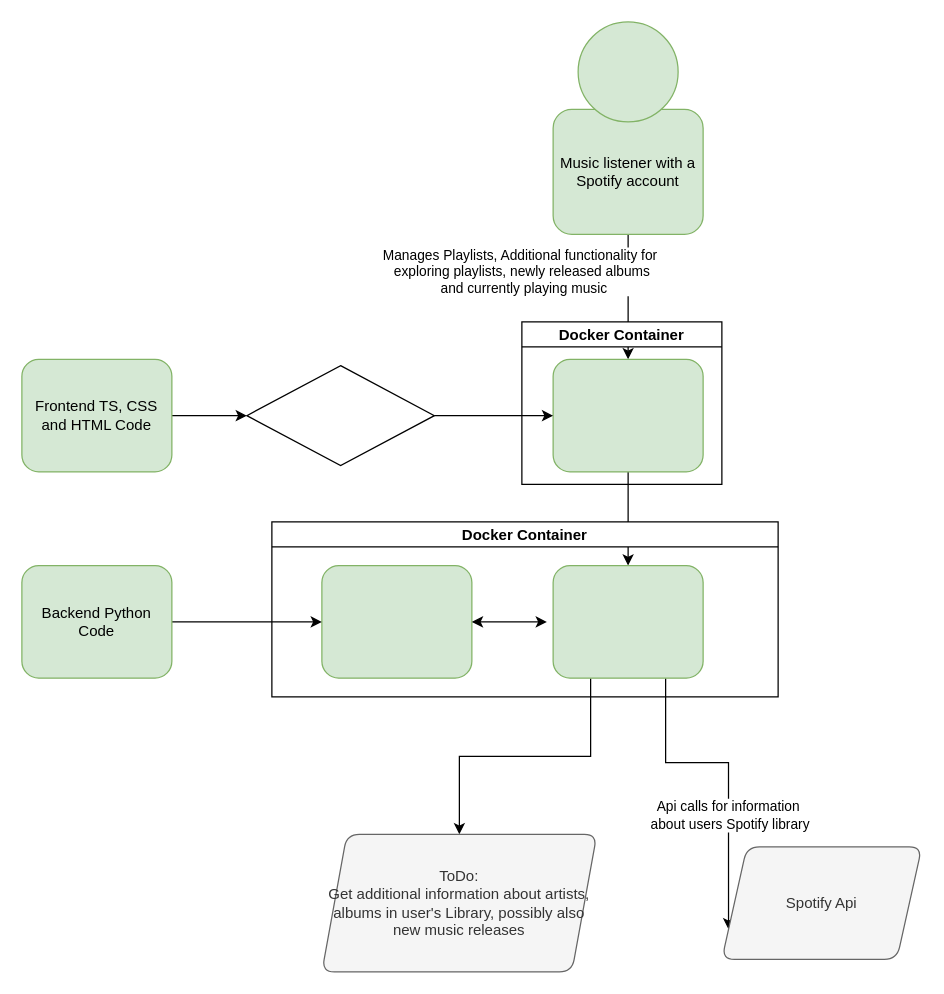
The diagram is 944 pixels wide and 994 high, and some of its shapes have lost their labels. Each missing label, with the centre of its shape:
"esbuild bundler" belongs at point 340,415.
"gunicorn server" belongs at point 627,621.
"Playlist Manager Backend - Flask application" belongs at point 396,621.
"Playlist Manager Frontend - React application bundled with esbuild" belongs at point 627,415.
